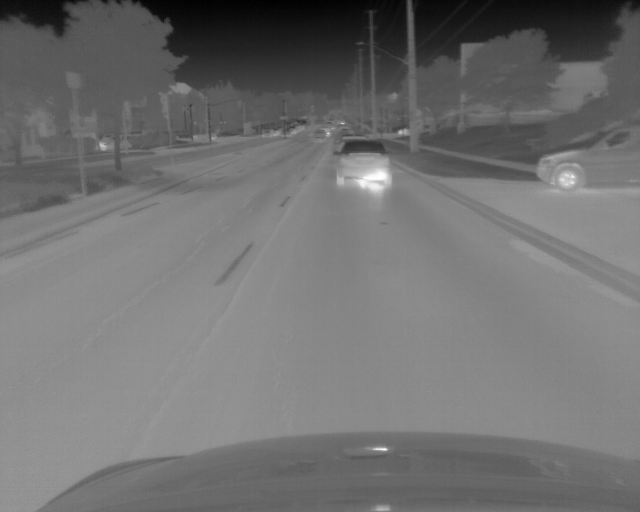car: (533, 129, 640, 191), (331, 135, 392, 188), (262, 126, 273, 140), (314, 130, 325, 139)
